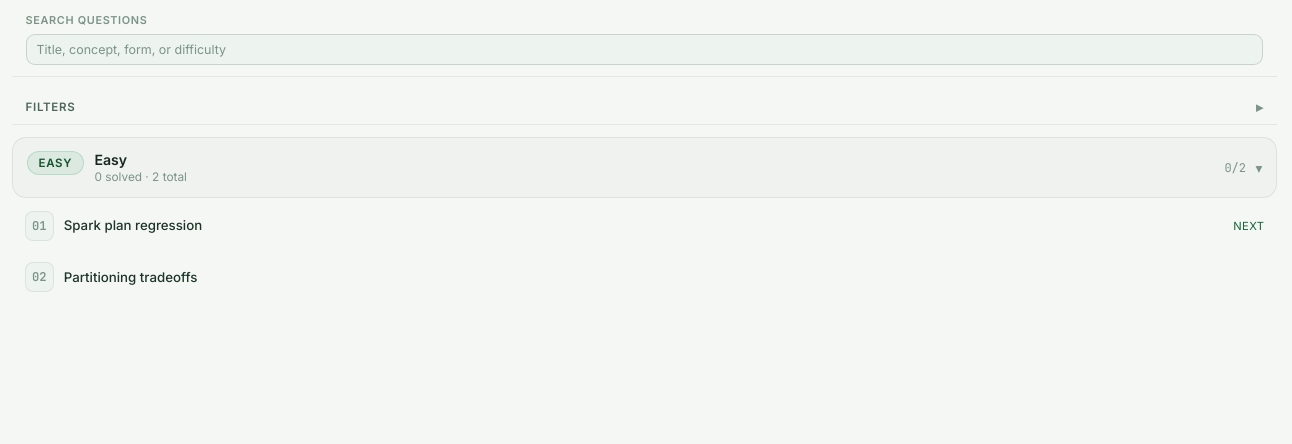
Test case: SidebarNav › filters sidebar questions by question-form chip
Click the button "Filters ▸".
click(51, 107)  # box [26,96,1263,118]
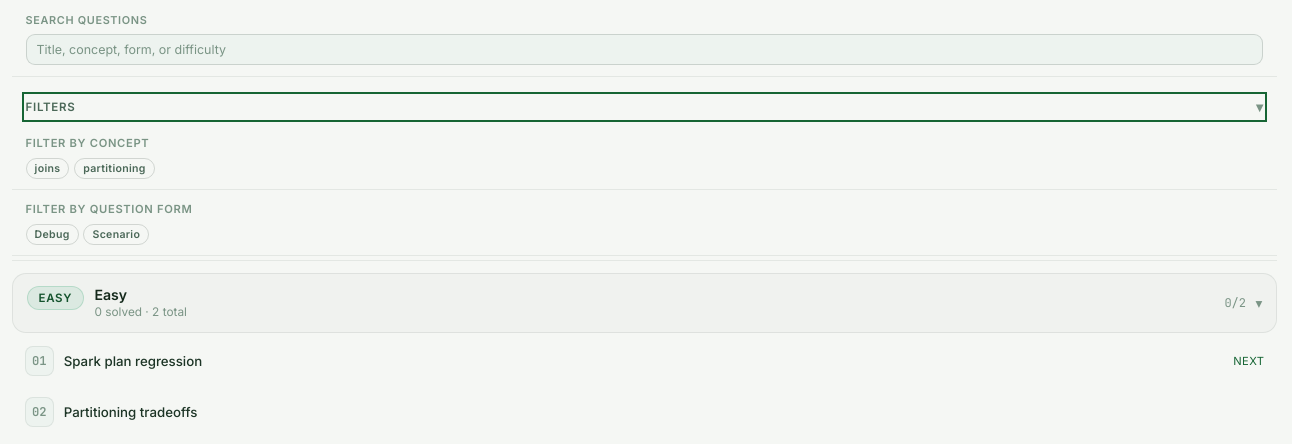
Click the button "Debug".
click(52, 234)  # box [26,224,79,245]
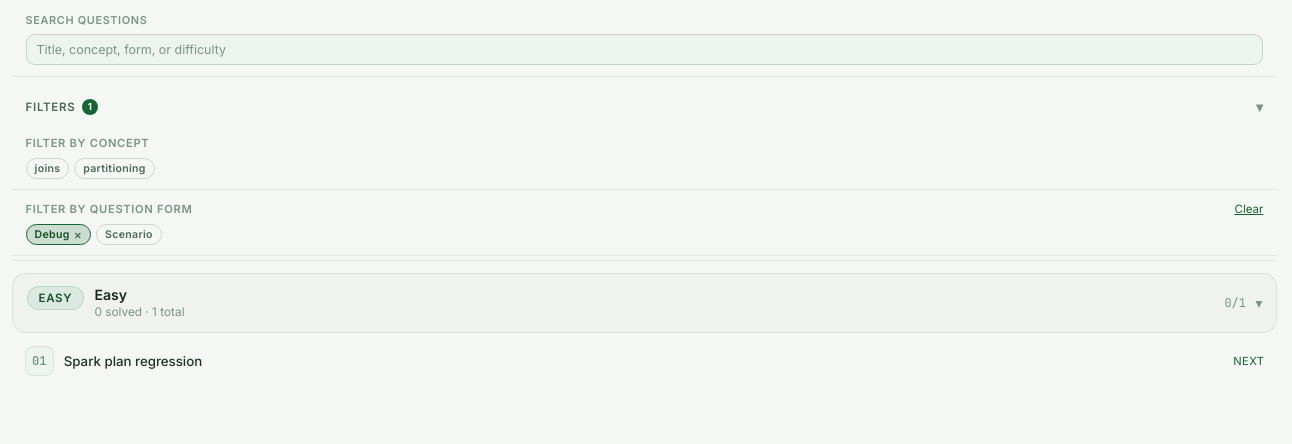
expect the text "Spark plan regression" is shown: met, box [64,352,202,370]
expect the link "Partitioning tradeoffs" is gone: met
